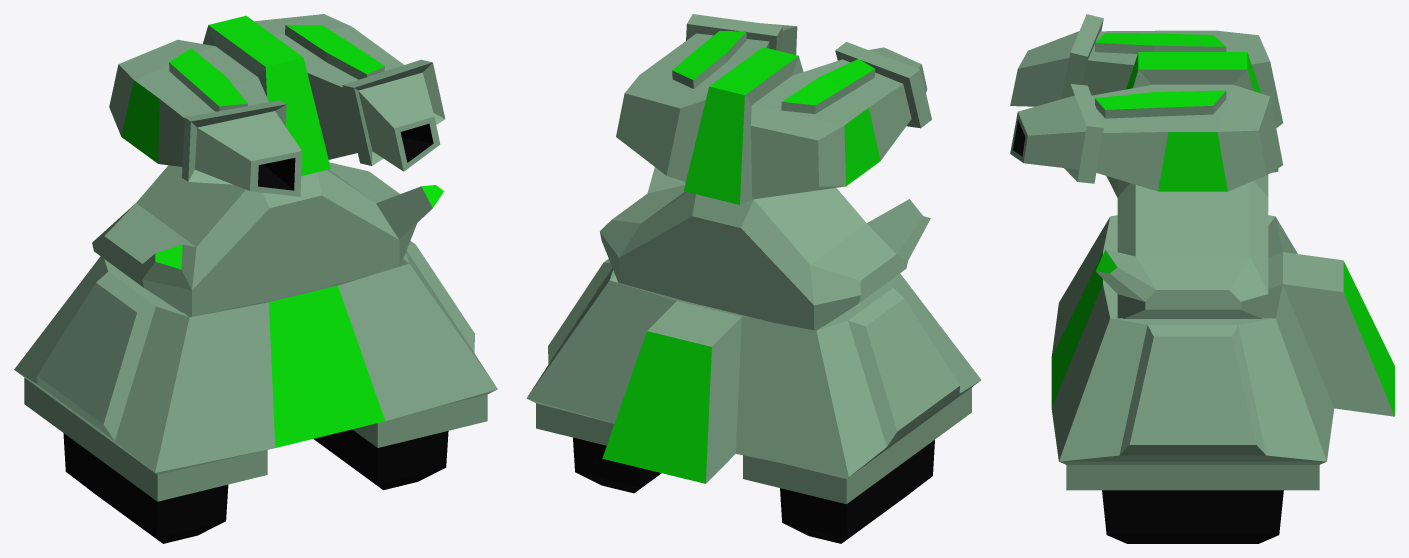
The model's file is Droid.fbx.
3 renders of one model, left to right at view 1: azimuth 30°, elevation 25°; view 2: azimuth 150°, elevation 25°; view 3: azimuth 270°, elevation 25°, orthographic. The views are drawn at different scales.
Parts seen in each view (by area): view 1: Droid; view 2: Droid; view 3: Droid.
Part boxes in pixels (box(x1,y1,x2,y2)): Droid: box(14, 14, 497, 543); Droid: box(526, 14, 981, 543); Droid: box(1010, 14, 1394, 543).
Bounding box in the file's own units: 8.04 × 9.23 × 7.59.
